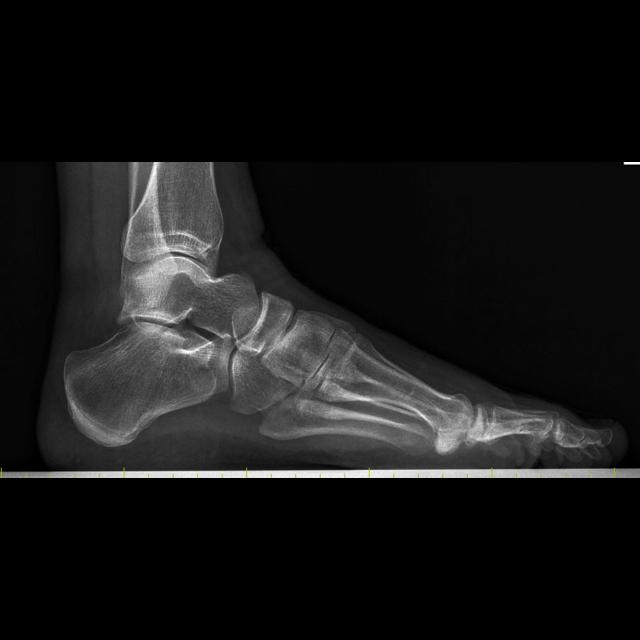a: (64, 322, 236, 448)
b: (235, 290, 294, 354)
c: (318, 334, 474, 433)
